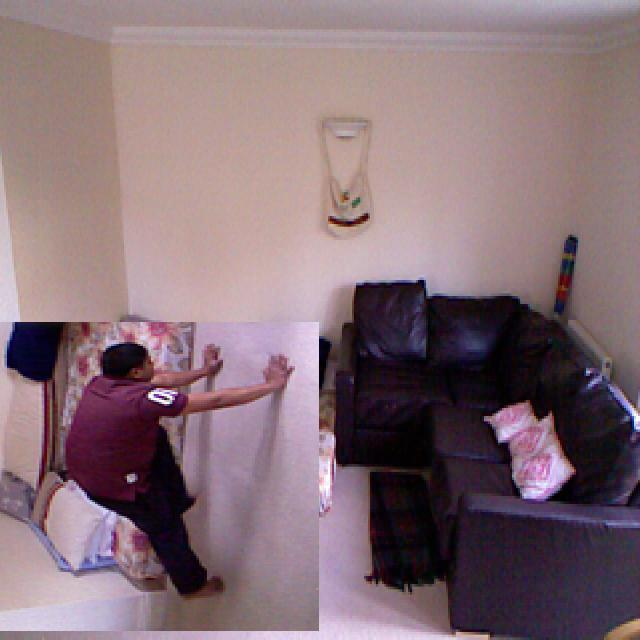Fall: (29, 324, 303, 617)
